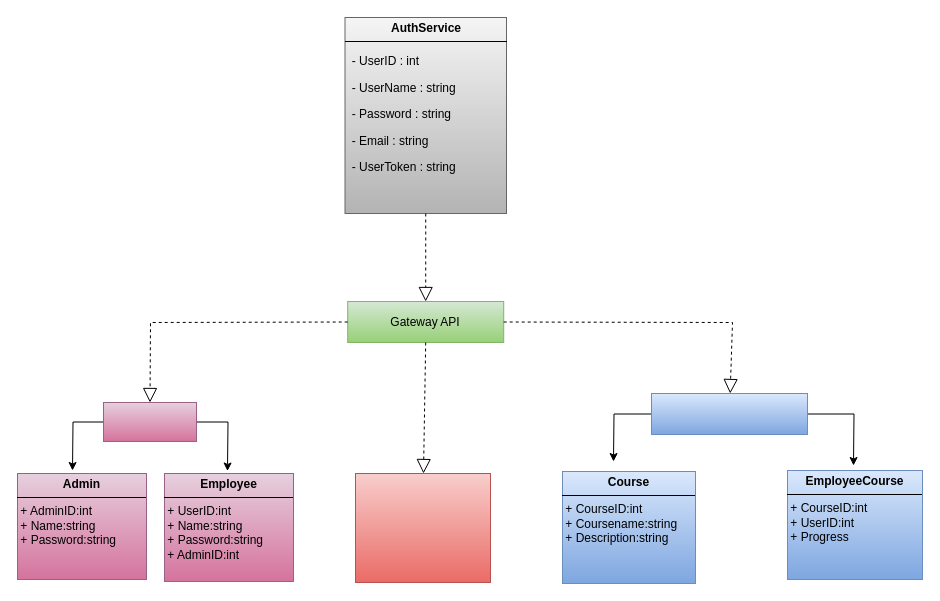
Image size: 940x601. Some labels were removed from this diagram. The centre of each missing label's shape, as x and y in pixels:
Feedback + UserID:int + FeedbackID:int + CourseID:int + Rating: point (422, 527)
LearningManagement: point (729, 413)
User: point (149, 422)
